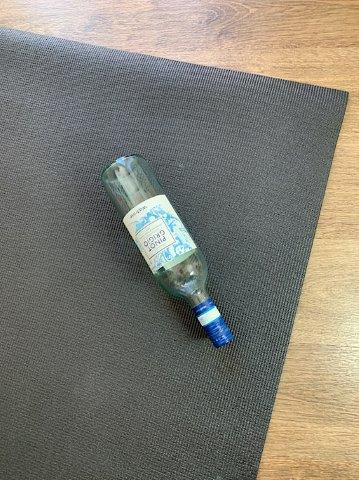botolkaca: (102, 154, 233, 348)
